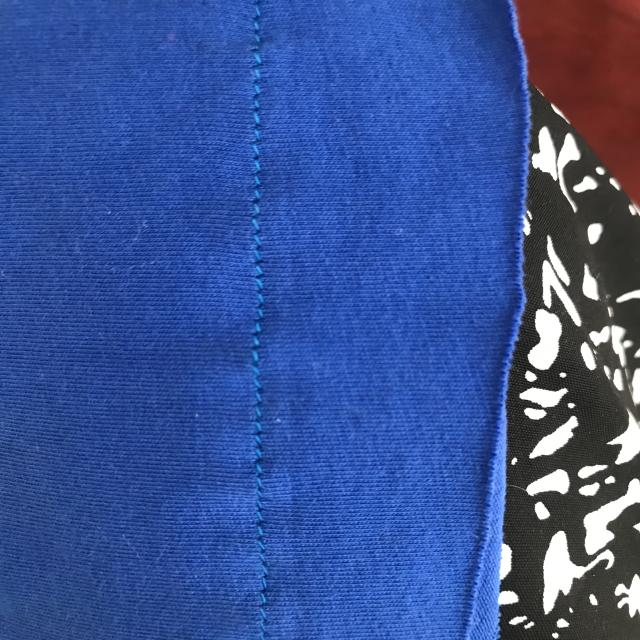good: (240, 51, 291, 292), (235, 461, 286, 598)
